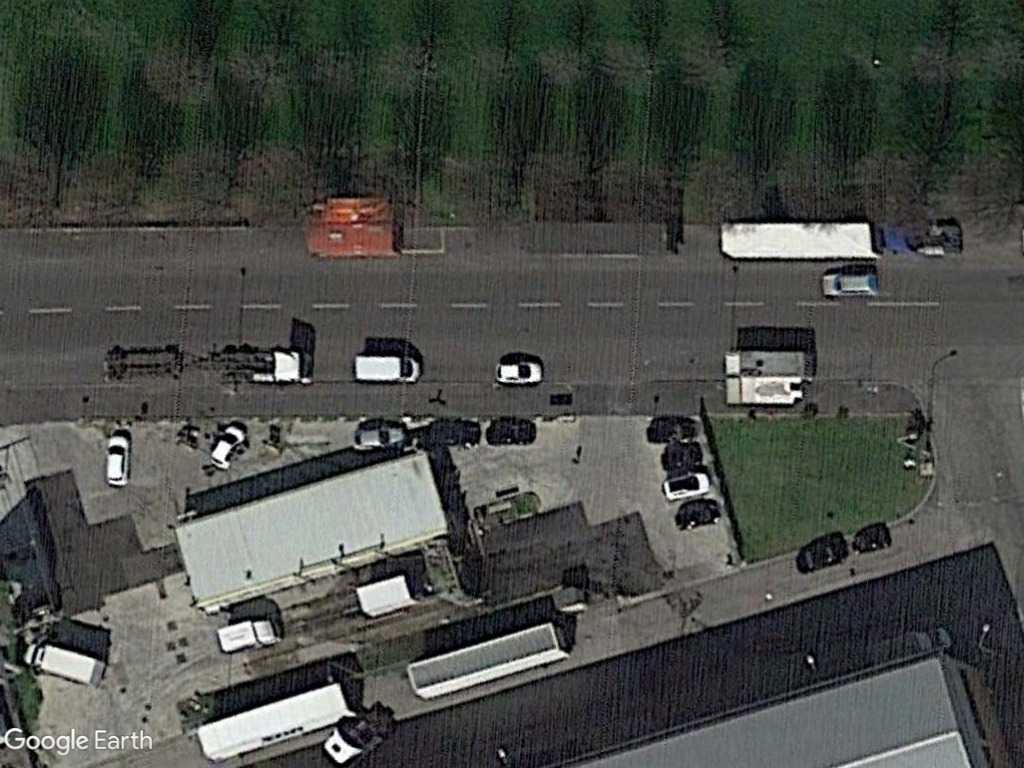car: (204, 420, 251, 472), (351, 417, 413, 456), (657, 463, 715, 503), (100, 431, 138, 491), (491, 358, 545, 389), (819, 271, 878, 298)
longvehicle: (397, 616, 575, 705), (192, 685, 360, 761), (714, 217, 890, 267)
truck: (17, 638, 112, 693), (718, 347, 819, 383), (212, 616, 288, 656)
van: (350, 351, 426, 387)
